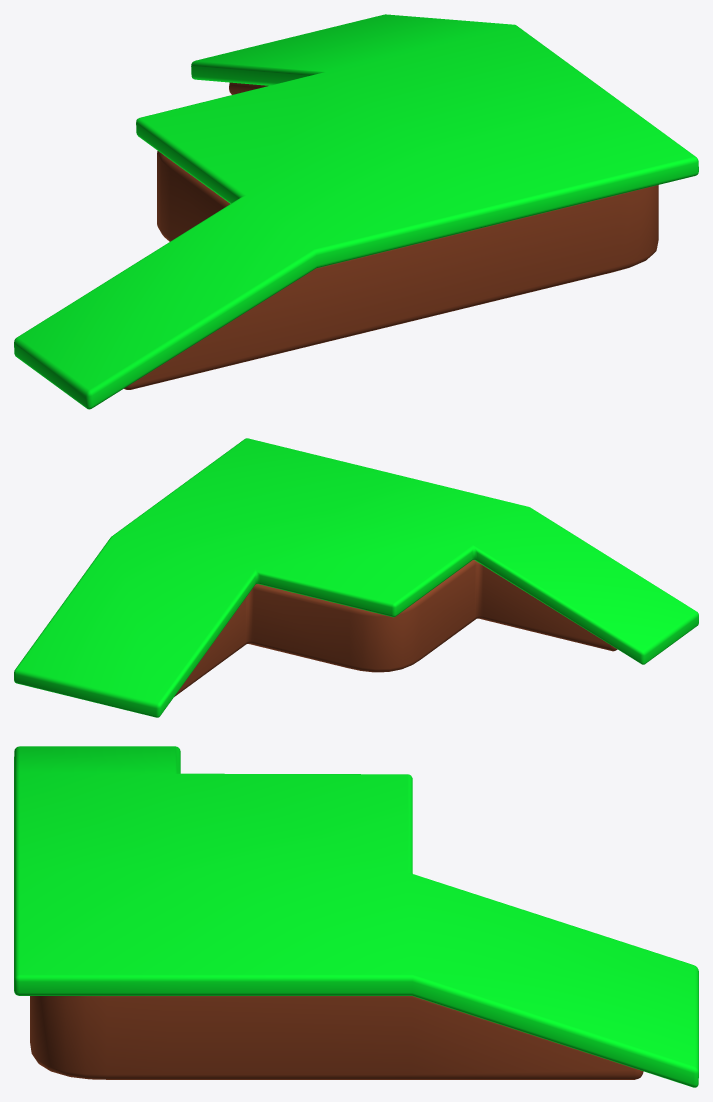
Rendered from Plateforme 1.fbx.
The picture shows the model from 3 angles, top to bottom: view 1: azimuth 30°, elevation 25°; view 2: azimuth 150°, elevation 25°; view 3: azimuth 270°, elevation 25°; orthographic projection. The views are drawn at different scales.
Visible parts, largest first — view 1: Plane.013; view 2: Plane.013; view 3: Plane.013.
Part boxes in pixels (x1,y1,x2,y2): Plane.013: (14, 14, 698, 409); Plane.013: (14, 438, 698, 717); Plane.013: (14, 746, 698, 1087).
Size of the model in its own units: 1231 by 203 by 1092.
